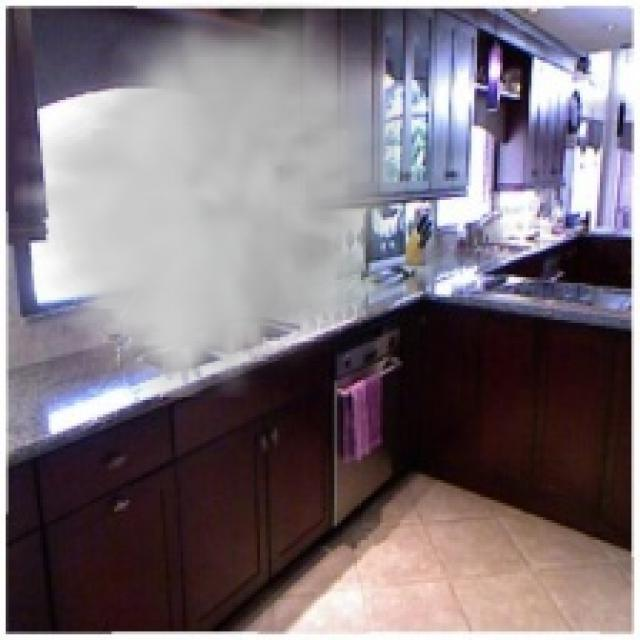Smoke: (14, 2, 423, 398)
